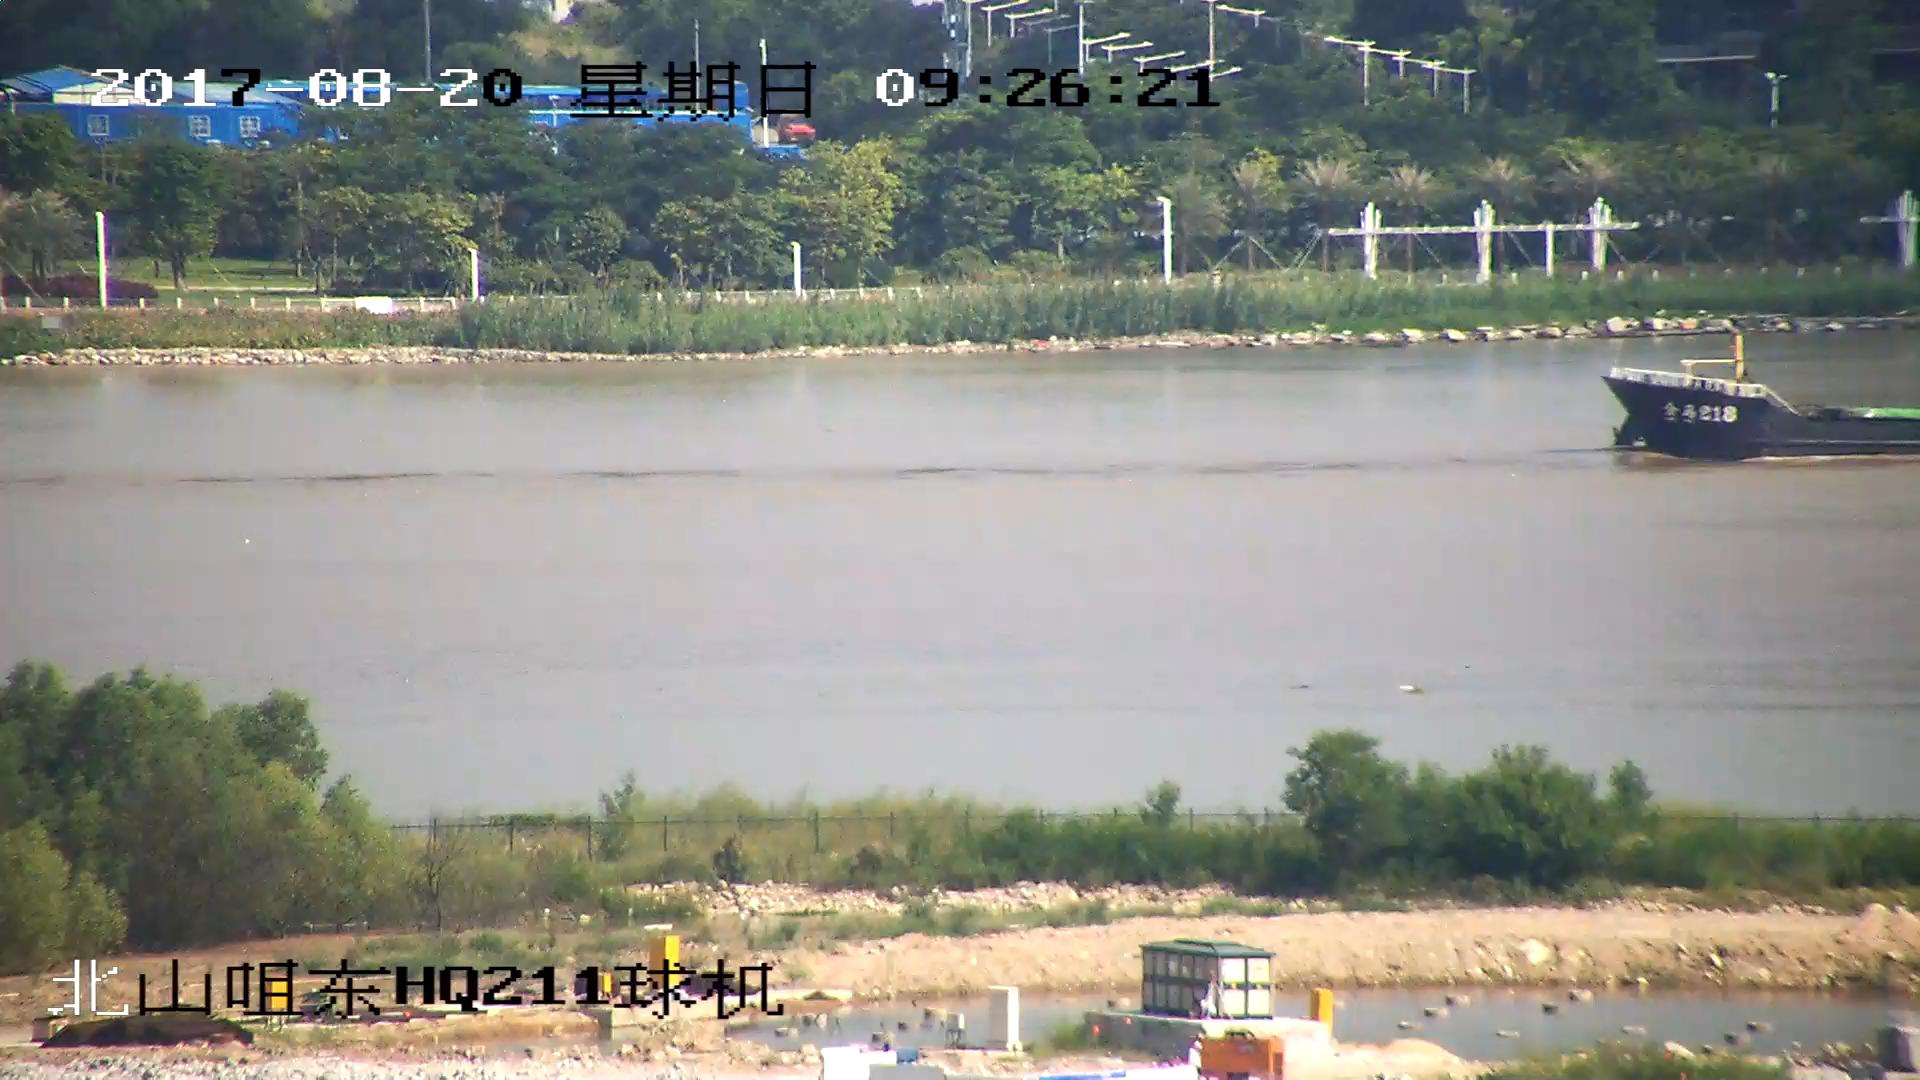general cargo ship: (1607, 360, 1920, 458)
